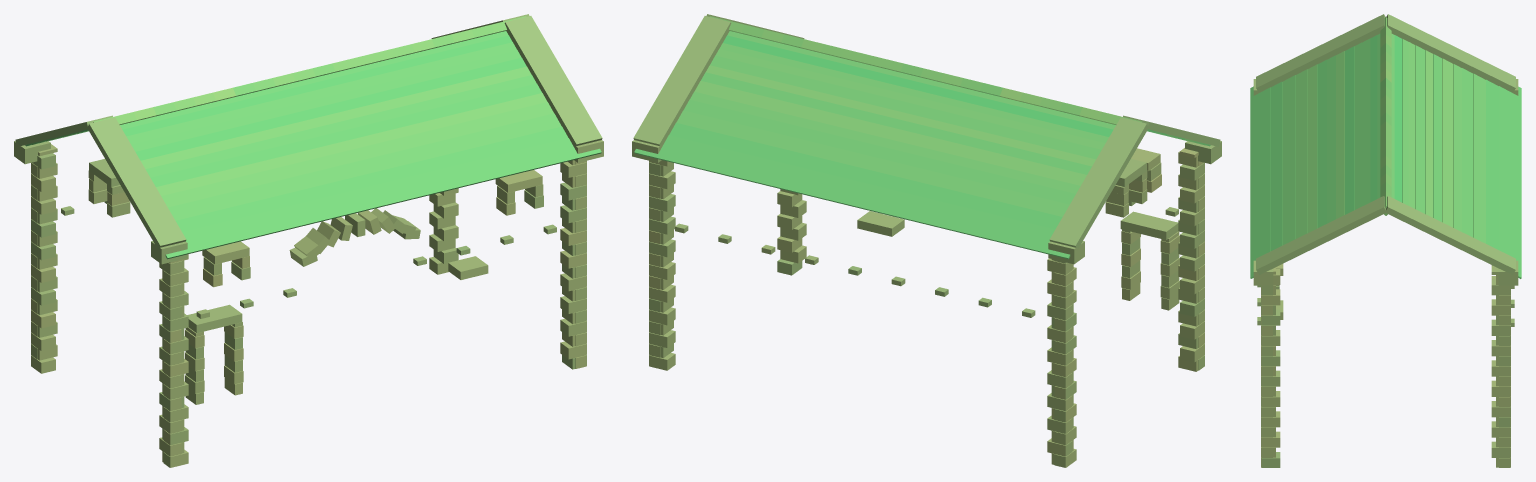
The model's file is SM_Bld_006_Stone.glb.
The picture shows the model from 3 angles, left to right: view 1: azimuth 30°, elevation 25°; view 2: azimuth 150°, elevation 25°; view 3: azimuth 270°, elevation 25°; orthographic projection. The views are drawn at different scales.
Visible parts, largest first — view 1: SM_Bld_006_Stone; view 2: SM_Bld_006_Stone; view 3: SM_Bld_006_Stone.
Part boxes in pixels (bbox=[...]): SM_Bld_006_Stone: bbox=[14, 14, 603, 467]; SM_Bld_006_Stone: bbox=[632, 14, 1221, 467]; SM_Bld_006_Stone: bbox=[1250, 14, 1521, 467].
Size of the model in its own units: 12.23 by 7.86 by 7.27.
